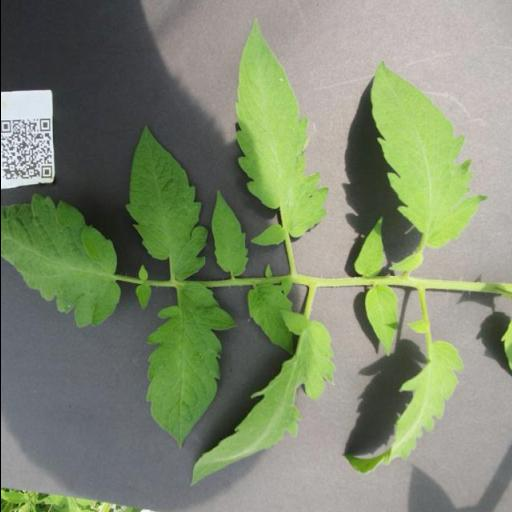Healthy: (187, 310, 335, 490), (368, 60, 486, 251), (234, 16, 330, 246), (341, 339, 465, 477), (0, 191, 121, 328), (144, 282, 238, 450), (124, 124, 207, 282), (209, 189, 247, 277)
